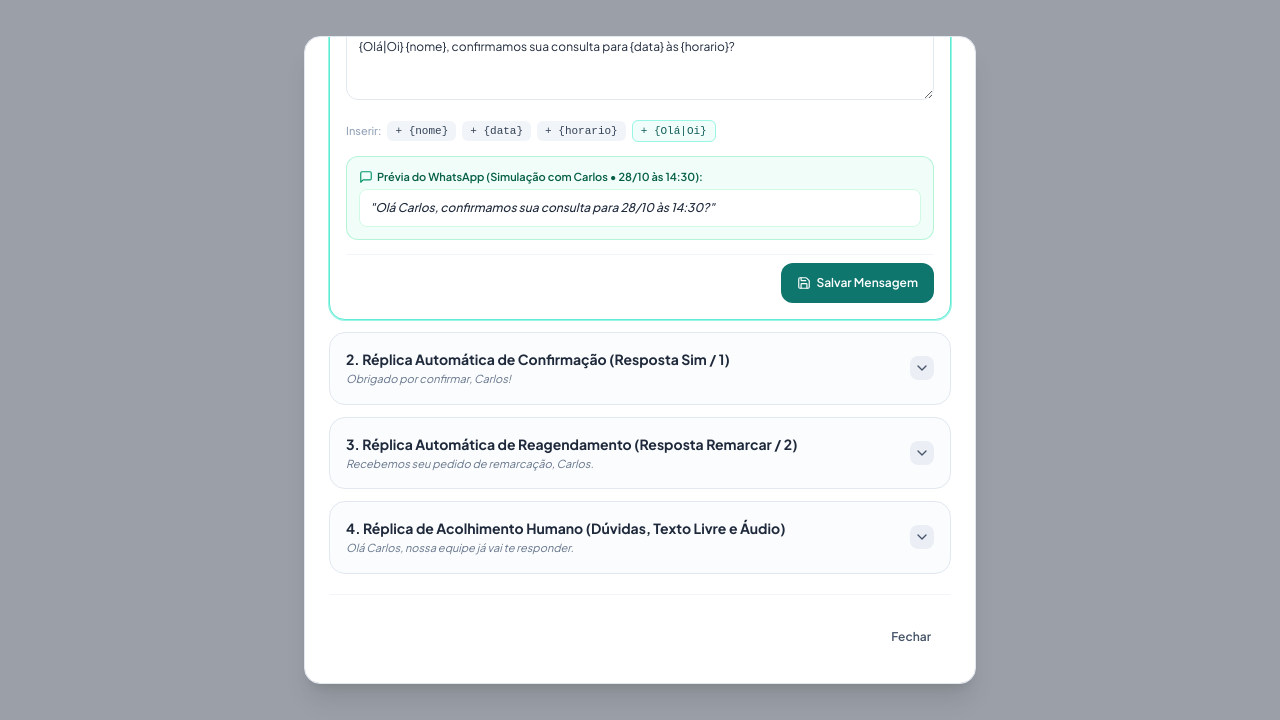
Test: WhatsappTemplatesDrawer — Gabarito e Auxiliares de Templates (US-128) › Cards Expansíveis e Salvamento Individual (US-129) › AC-230: Expansão e recolhimento individual dos cards de template @spec:AC-230
(page scrolled)
Expected: the element with test id "card-body-confirmation" is shown, [330, 36, 950, 319]
// Clica no cabeçalho do card de remarcação (reschedule-reply)
Click the button with test id "card-header-reschedule-reply" at (640,453), box [330, 418, 950, 488]
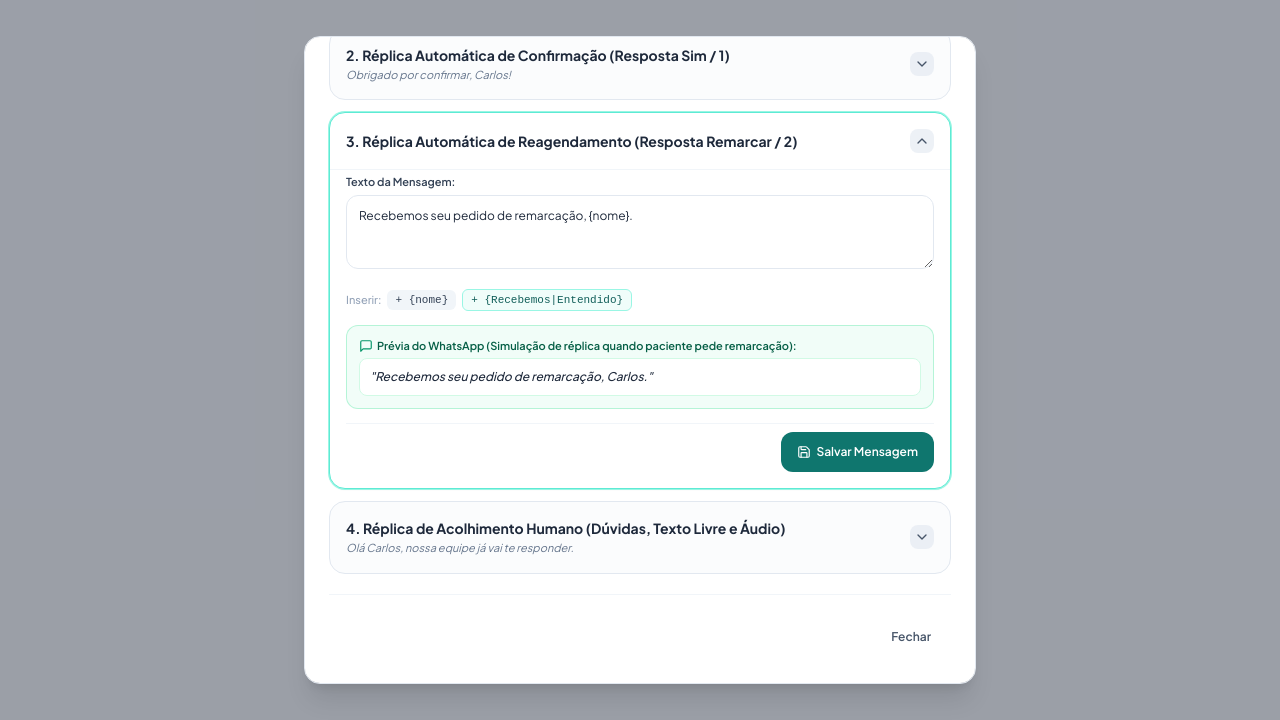
Expected: the element with test id "card-body-reschedule-reply" is shown, [330, 169, 950, 488]
Expected: the element with test id "card-body-confirmation" is gone
// Clica novamente no cabeçalho do card de remarcação para recolhê-lo
Click the button with test id "card-header-reschedule-reply" at (640,141), box [330, 113, 950, 169]
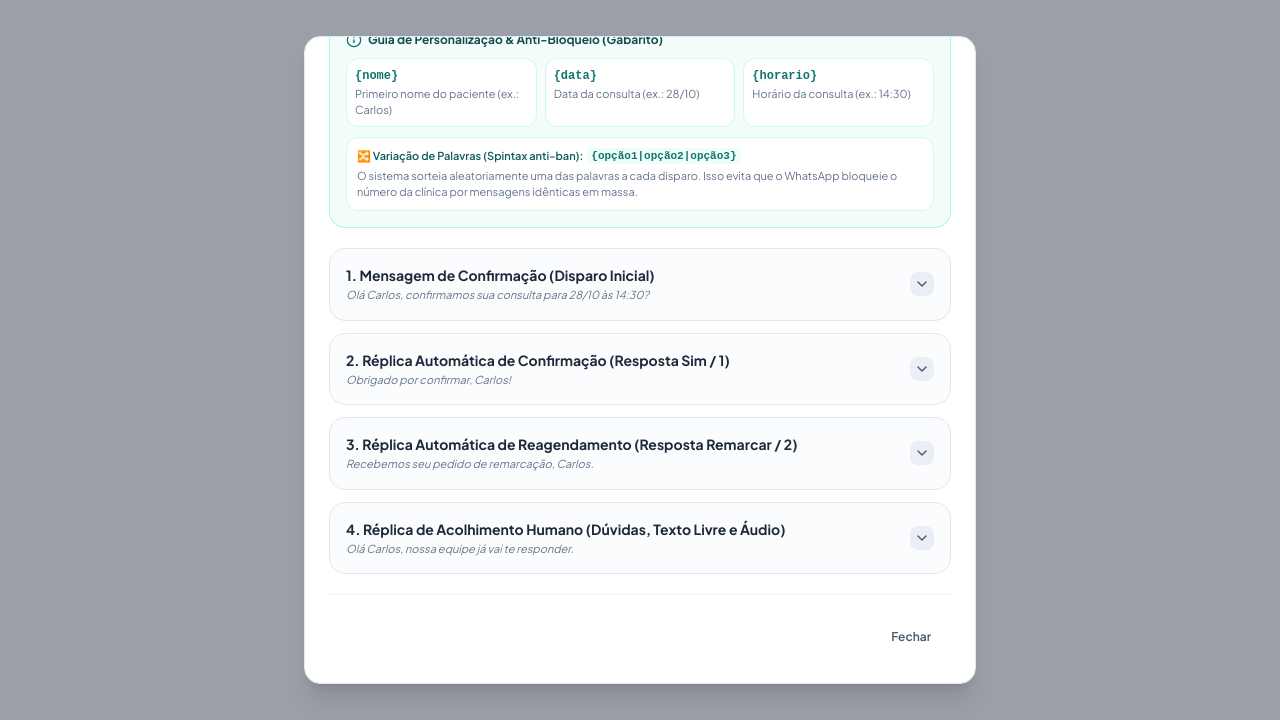
Expected: the element with test id "card-body-reschedule-reply" is gone
